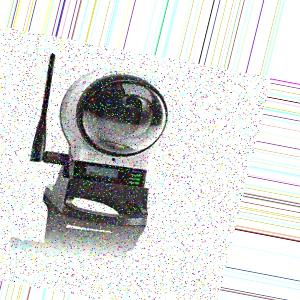webcam: (45, 62, 180, 174)
